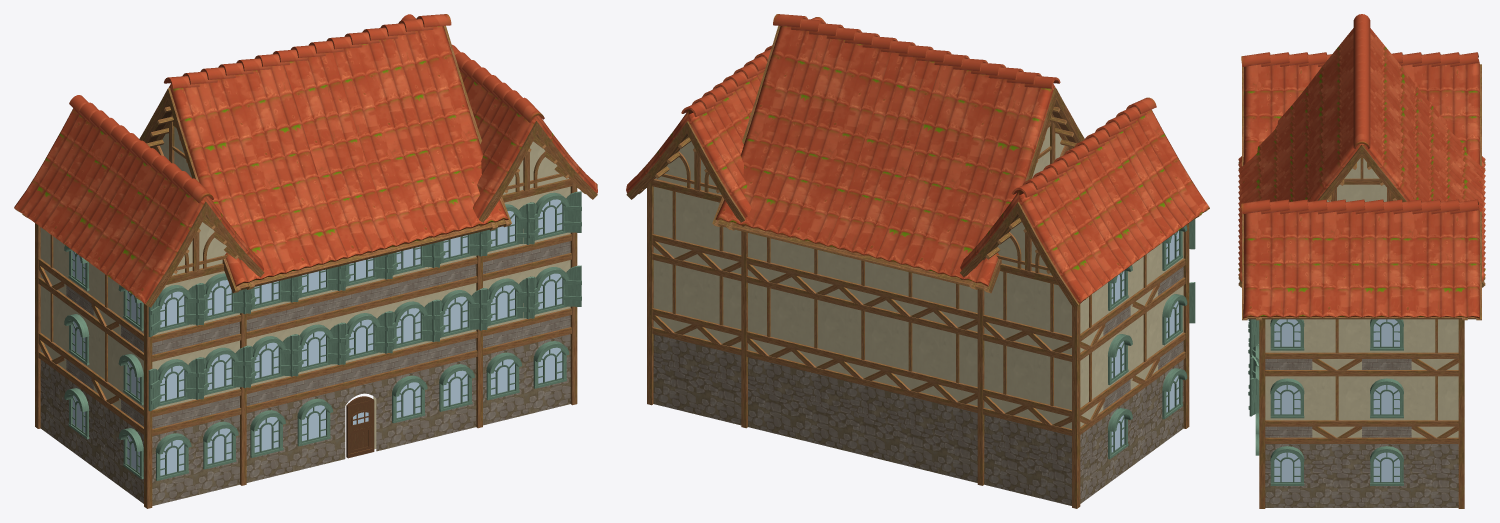
The model's file is energy_hq.glb.
3 views of the same model, side by side, from view 1: azimuth 30°, elevation 25°; view 2: azimuth 150°, elevation 25°; view 3: azimuth 270°, elevation 25° (orthographic). The views are drawn at different scales.
Parts seen in each view (by area): view 1: Roof_RoundTiles_4x8, Wall_UnevenBrick_Window_Wide_Round, Window_Wide_Round1, Wall_UnevenBrick_Straight, Wall_Plaster_Window_Wide_Round; view 2: Roof_RoundTiles_4x8, Wall_UnevenBrick_Window_Wide_Round, Wall_UnevenBrick_Straight, Window_Wide_Round1, Wall_Plaster_Window_Wide_Round; view 3: Roof_RoundTiles_4x8, Wall_UnevenBrick_Window_Wide_Round, Wall_UnevenBrick_Straight, Window_Wide_Round1, Wall_Plaster_Window_Wide_Round.
Part boxes in pixels (x1,y1,x2,y2): Roof_RoundTiles_4x8: [14, 14, 597, 303]; Wall_UnevenBrick_Window_Wide_Round: [16, 26, 597, 505]; Window_Wide_Round1: [64, 191, 581, 480]; Wall_UnevenBrick_Straight: [35, 106, 577, 508]; Wall_Plaster_Window_Wide_Round: [66, 241, 570, 428]; Roof_RoundTiles_4x8: [626, 14, 1209, 304]; Wall_UnevenBrick_Window_Wide_Round: [626, 26, 1209, 486]; Wall_UnevenBrick_Straight: [647, 106, 1189, 508]; Window_Wide_Round1: [1107, 219, 1195, 459]; Wall_Plaster_Window_Wide_Round: [1103, 266, 1183, 409]; Roof_RoundTiles_4x8: [1238, 14, 1485, 318]; Wall_UnevenBrick_Window_Wide_Round: [1238, 64, 1485, 507]; Wall_UnevenBrick_Straight: [1259, 156, 1464, 508]; Window_Wide_Round1: [1248, 319, 1403, 485]; Wall_Plaster_Window_Wide_Round: [1265, 359, 1411, 437].
Size of the model in its own units: 19.51 by 15 by 9.95.
7 materials, 6 textured.
